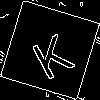K: (25, 25, 76, 82)
